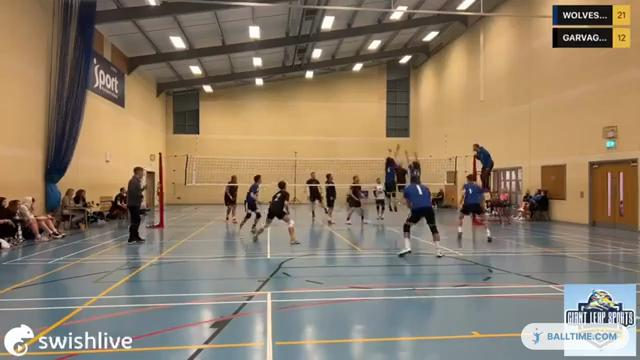Attack: (394, 158, 411, 191)
Block: (381, 139, 400, 212), (401, 144, 426, 188)
Player: (398, 177, 442, 256), (254, 181, 299, 244), (458, 174, 491, 241), (238, 175, 260, 231), (346, 175, 366, 224), (306, 172, 327, 218), (224, 175, 237, 223), (325, 173, 336, 223), (373, 178, 385, 219)
ball: (396, 142, 404, 149)
